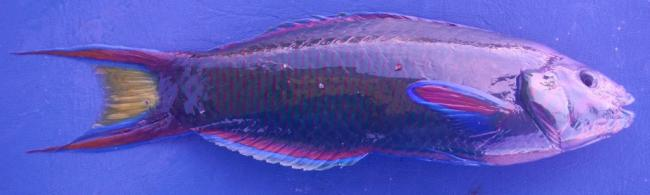fish: (9, 11, 636, 172)
